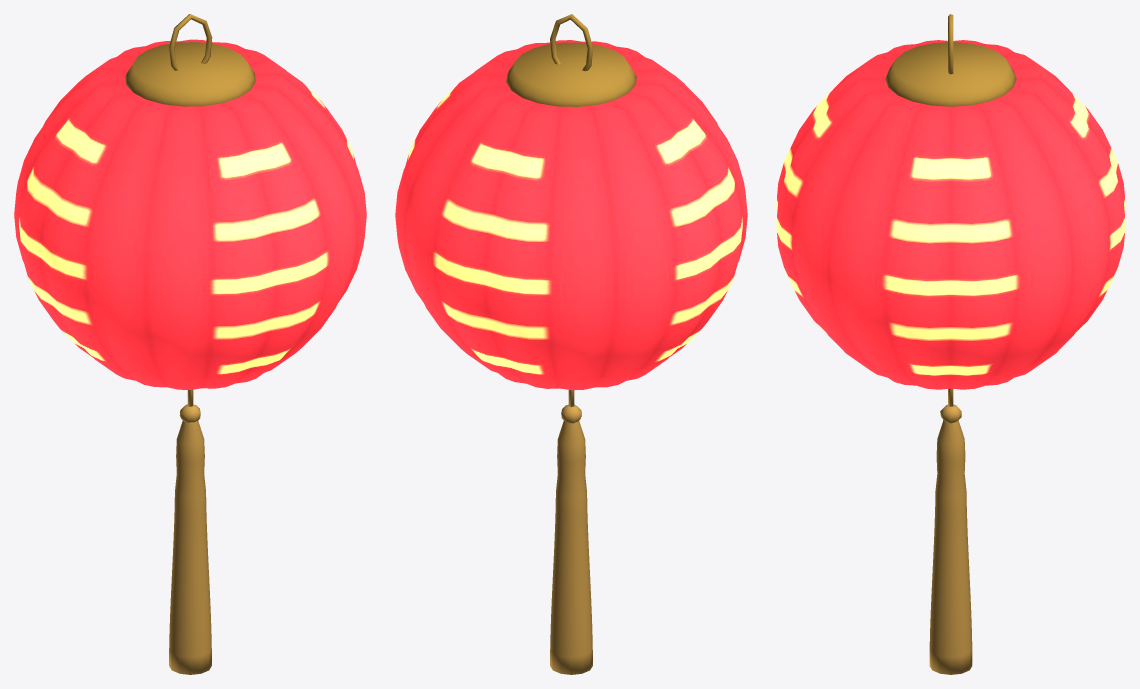
File: red-lantern.glb
The picture shows the model from 3 angles, left to right: view 1: azimuth 30°, elevation 25°; view 2: azimuth 150°, elevation 25°; view 3: azimuth 270°, elevation 25°; orthographic projection.
Visible parts, largest first — view 1: red-lantern, tassel; view 2: red-lantern, tassel; view 3: red-lantern, tassel.
Part boxes in pixels (x1=…): red-lantern: x1=14, y1=14, x2=366, y2=389; tassel: x1=169, y1=389, x2=211, y2=674; red-lantern: x1=395, y1=14, x2=747, y2=390; tassel: x1=550, y1=390, x2=592, y2=674; red-lantern: x1=776, y1=14, x2=1125, y2=389; tassel: x1=929, y1=388, x2=972, y2=674.
Size of the model in its own units: 0.3499 by 0.7199 by 0.3499.
Materials: 3 (1 with a texture image).
